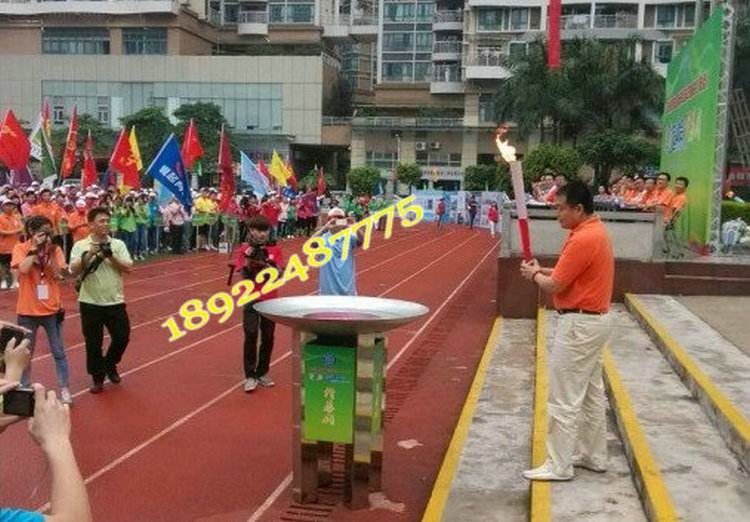fire: (494, 131, 517, 165)
